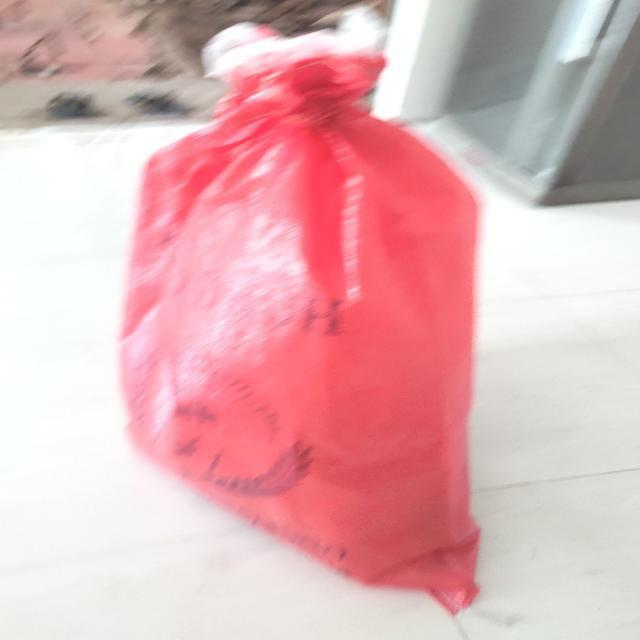gunny_bag: (119, 50, 479, 614)
